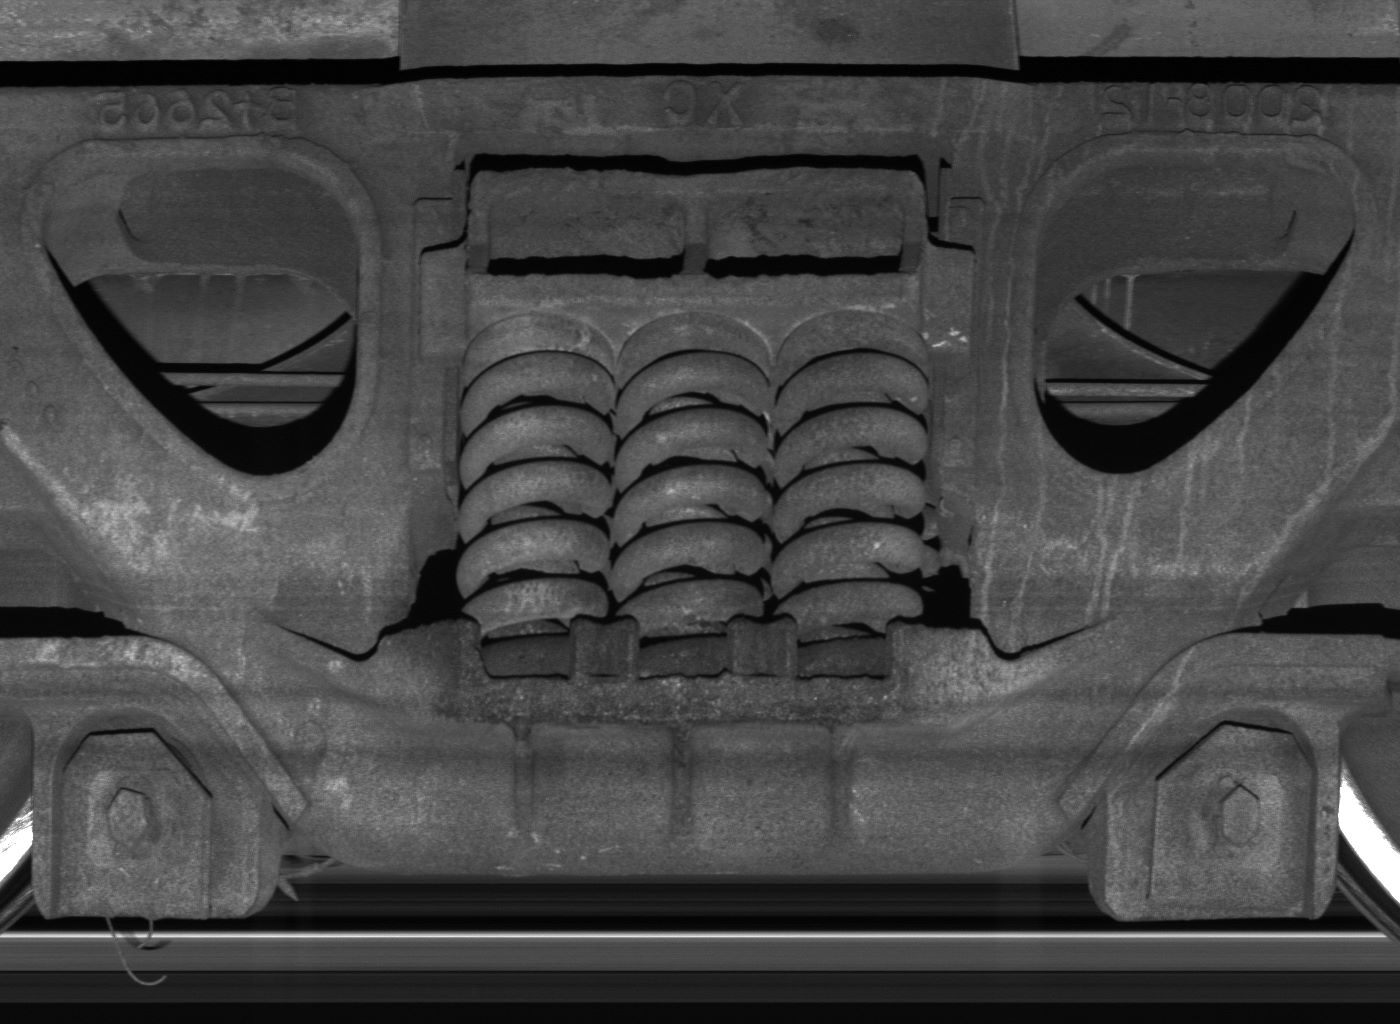normal: (1105, 704, 1343, 921), (30, 709, 263, 919)
